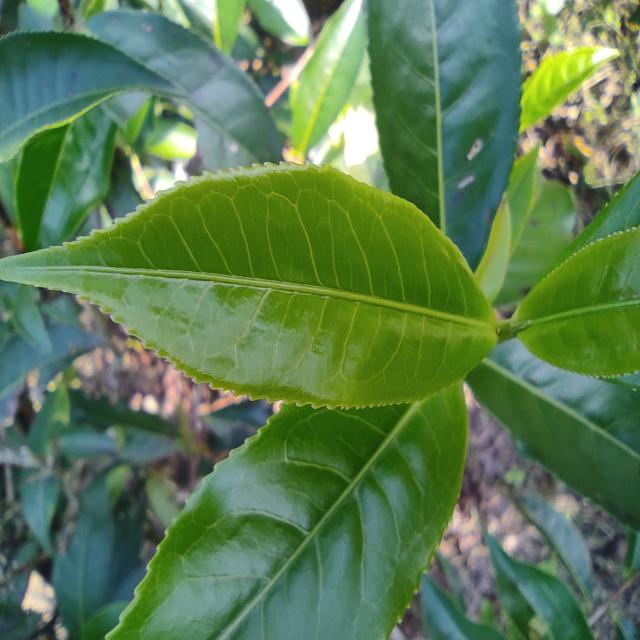Category B(2-4 days): (2, 134, 508, 425)
